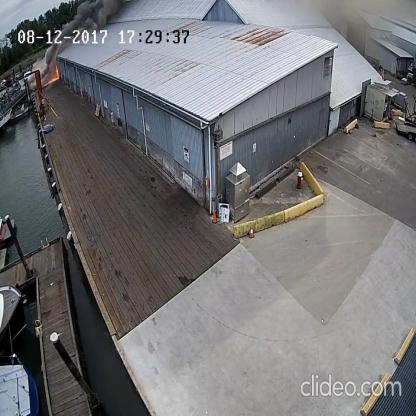fire: (49, 76, 61, 83), (56, 66, 61, 80)
